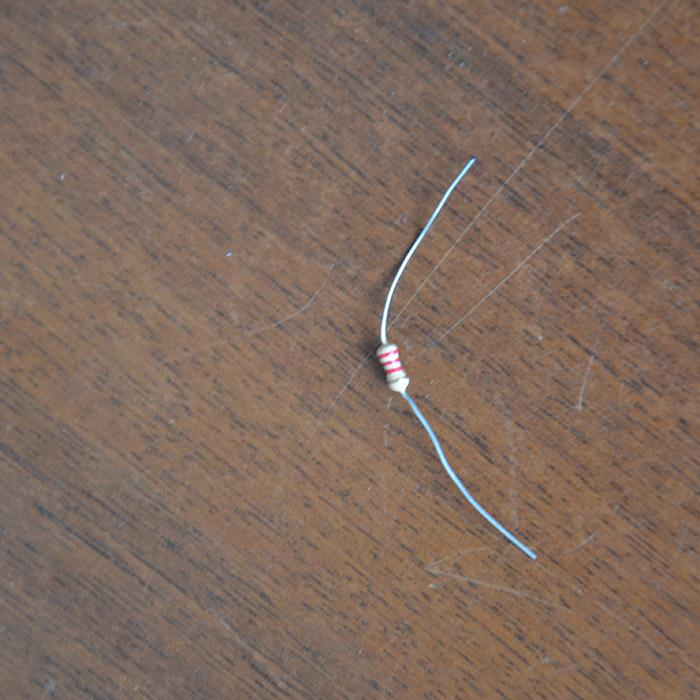resistor: (375, 340, 408, 392)
